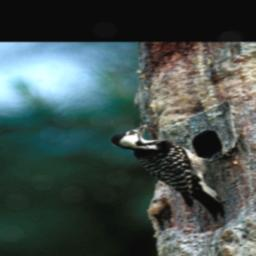Woodpecker: (109, 123, 224, 223)
